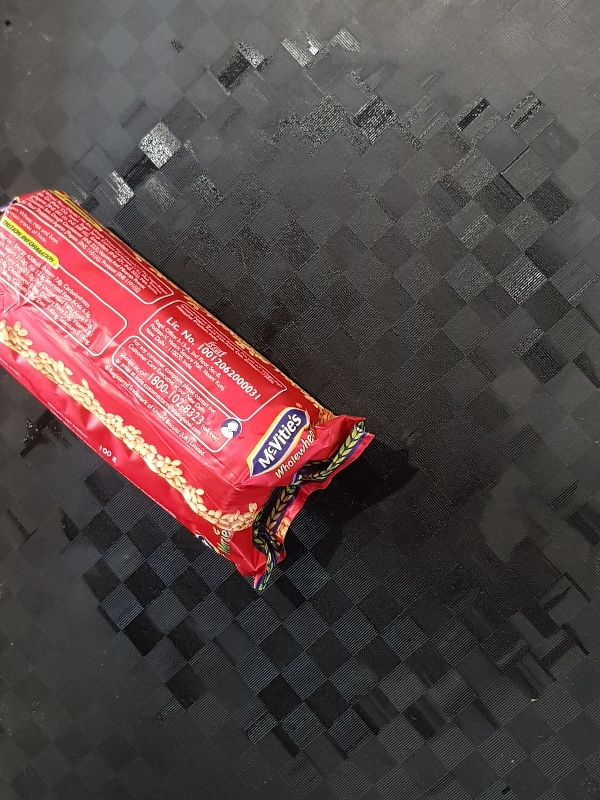McVitie's Wholewheat Marie: (1, 188, 378, 592)
